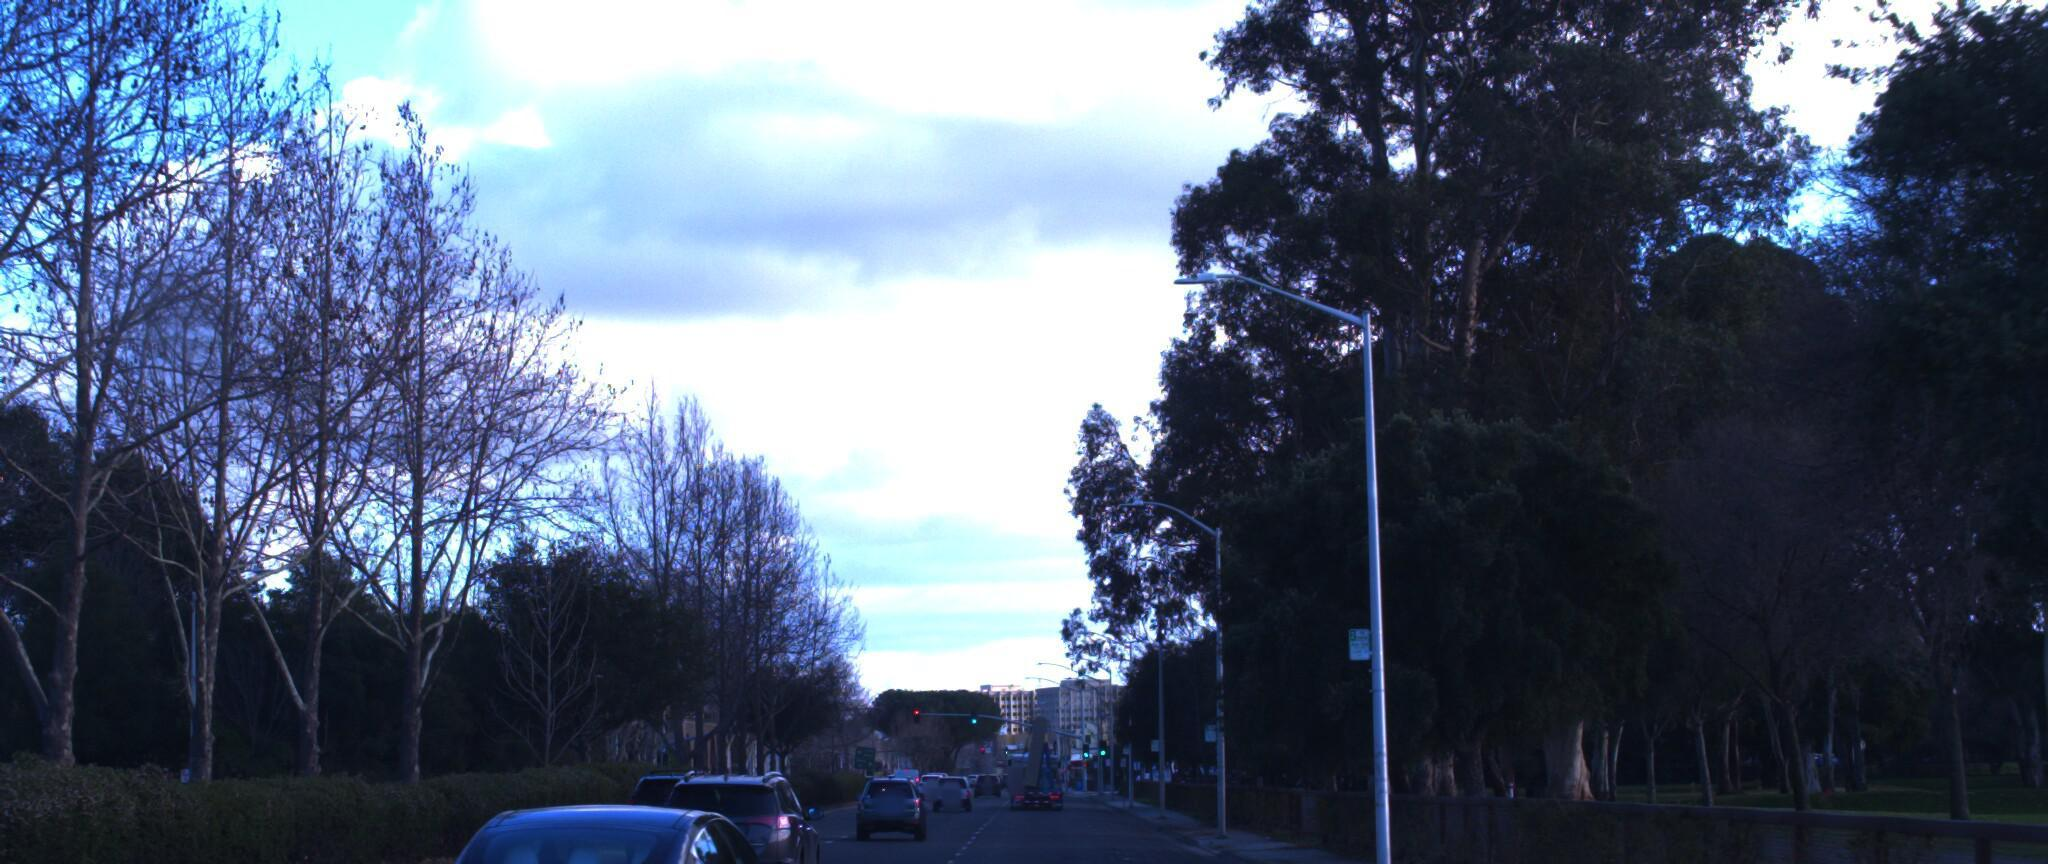car: (394, 790, 818, 864), (645, 756, 833, 864), (862, 758, 938, 818)
